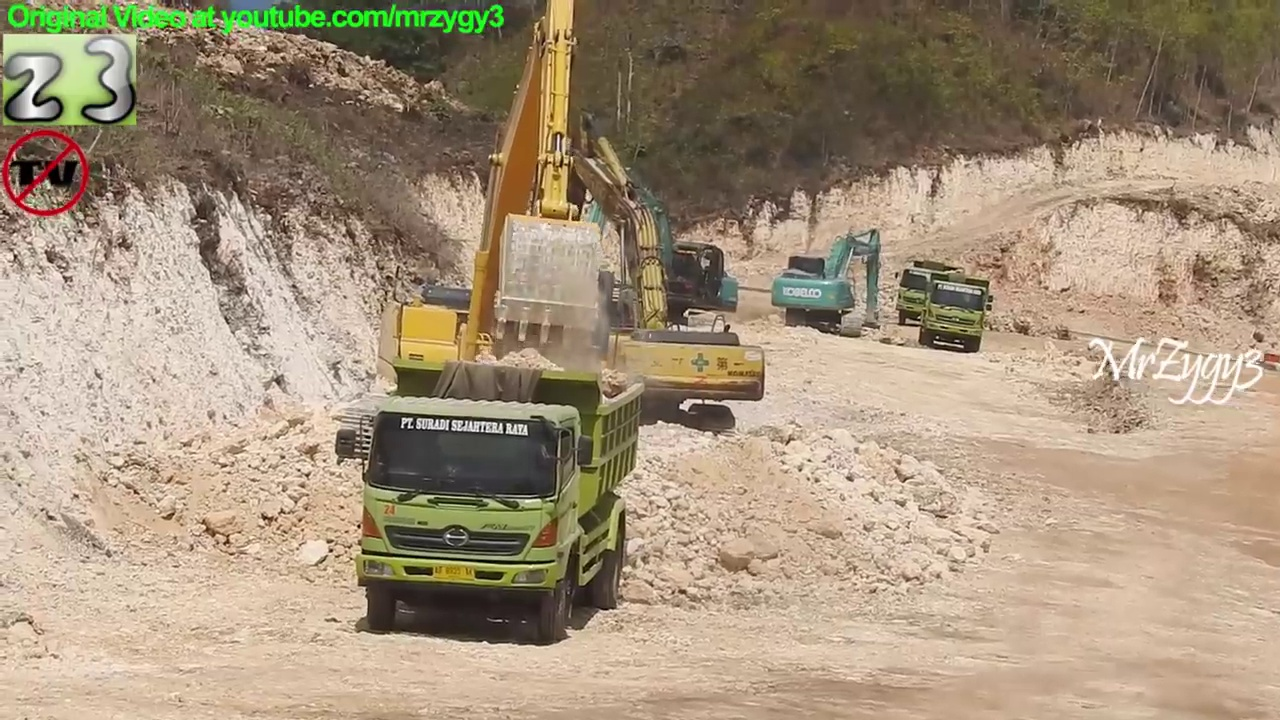excavator: (334, 1, 660, 474), (519, 131, 771, 455), (569, 165, 747, 345), (771, 217, 885, 344)
truck: (334, 355, 648, 645), (920, 269, 995, 354), (895, 257, 967, 330)
